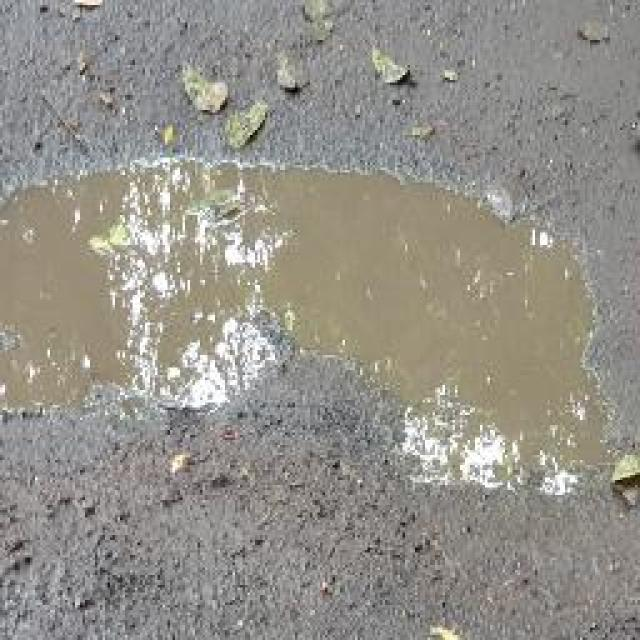stagnation: (6, 114, 635, 507)
